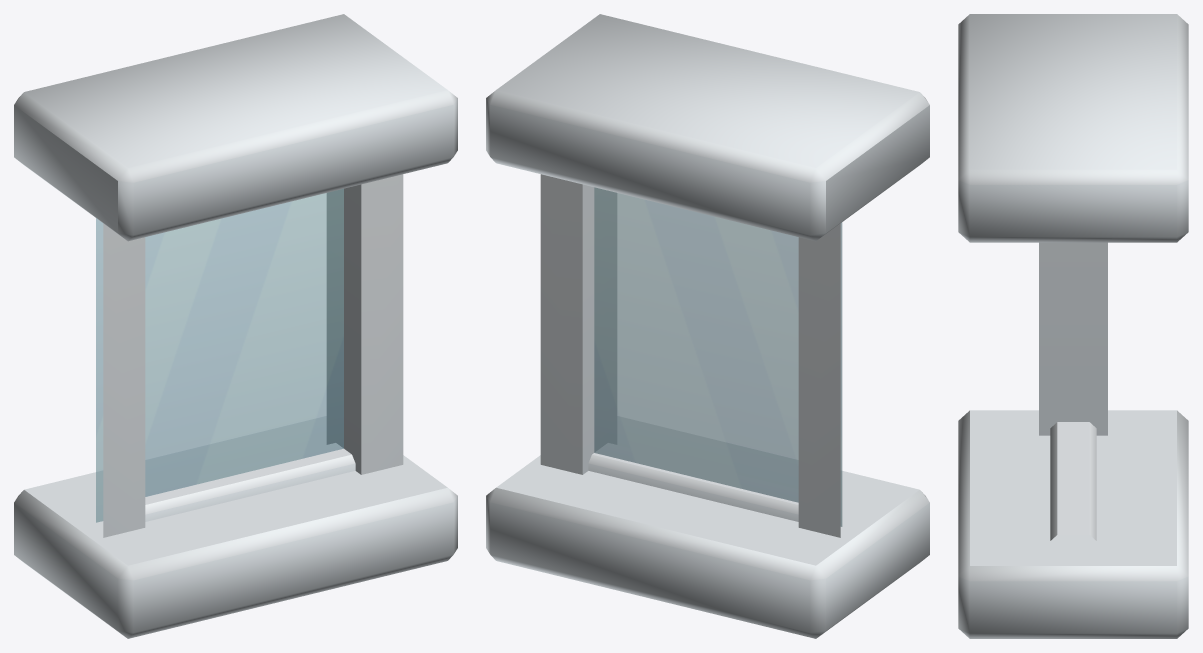
Rendered from window-small-modular.glb.
3 renders of one model, left to right at view 1: azimuth 30°, elevation 25°; view 2: azimuth 150°, elevation 25°; view 3: azimuth 270°, elevation 25°, orthographic.
Parts seen in each view (by area): view 1: window_small_modular; view 2: window_small_modular; view 3: window_small_modular.
Part boxes in pixels (left/top/right/bottom): window_small_modular: left=14, top=14, right=457, bottom=638; window_small_modular: left=486, top=14, right=929, bottom=638; window_small_modular: left=958, top=14, right=1188, bottom=638.
Size of the model in its own units: 1.7 by 2.25 by 1.
2 materials, 2 textured.
